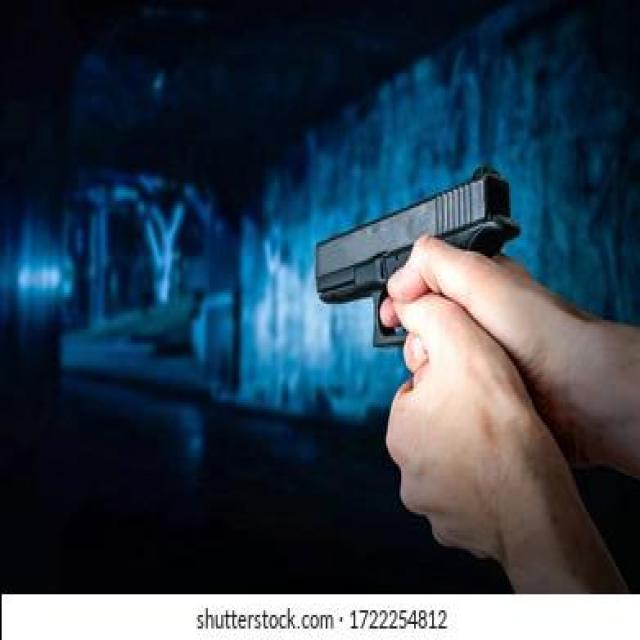Handgun: (309, 151, 529, 507)
